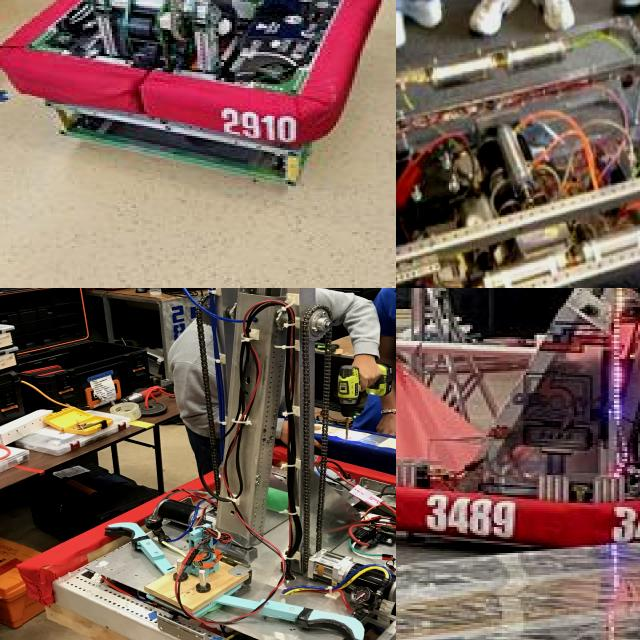FRC-Robots: (19, 288, 396, 640), (396, 0, 640, 288), (396, 288, 640, 561), (0, 0, 396, 138)
